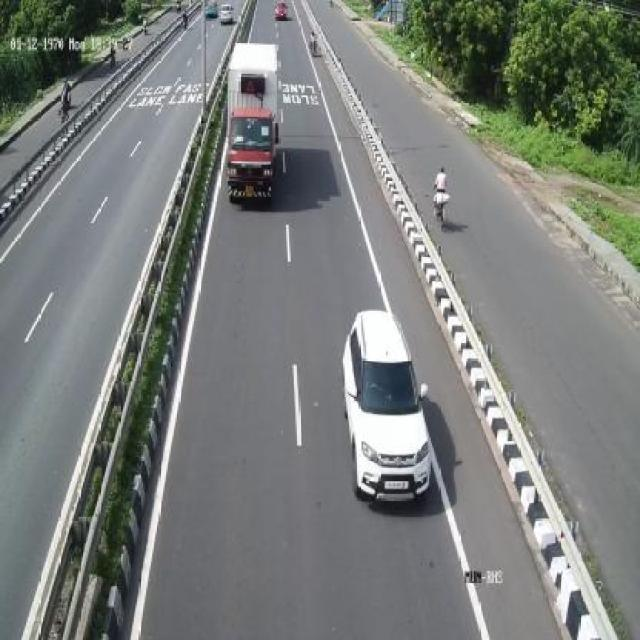car: (346, 303, 436, 508)
